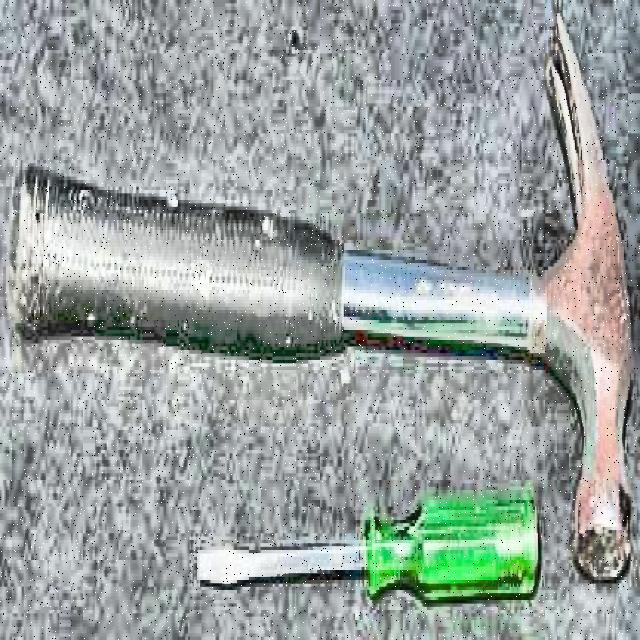hammer: (6, 0, 631, 582)
